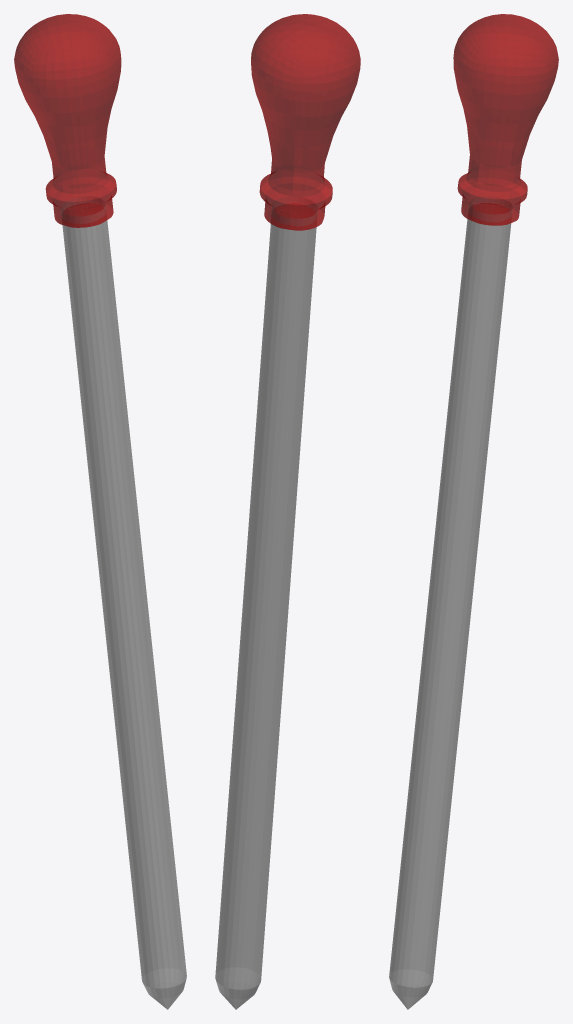
The model's file is Dropper.fbx.
3 views of the same model, side by side, from view 1: azimuth 90°, elevation 25°; view 2: azimuth 210°, elevation 25°; view 3: azimuth 270°, elevation 25° (orthographic). The views are drawn at different scales.
Parts seen in each view (by area): view 1: polySurface7, polySurface8; view 2: polySurface7, polySurface8; view 3: polySurface7, polySurface8.
Boxes of the visible parts, x1,y1,x2,y2 form: polySurface7: [61, 196, 186, 1009]; polySurface8: [14, 14, 121, 227]; polySurface7: [215, 196, 317, 1009]; polySurface8: [251, 14, 360, 230]; polySurface7: [389, 196, 512, 1009]; polySurface8: [453, 14, 558, 225].
Size of the model in its own units: 1.95 by 20.07 by 3.15.
